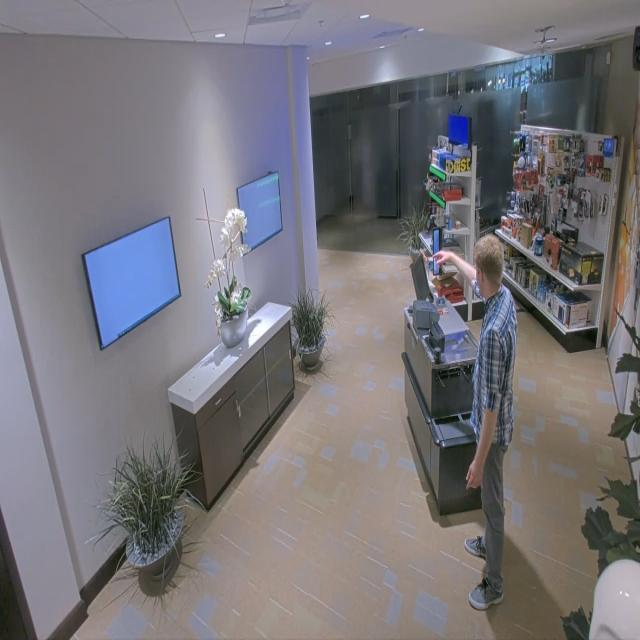normal: (427, 224, 518, 631)
